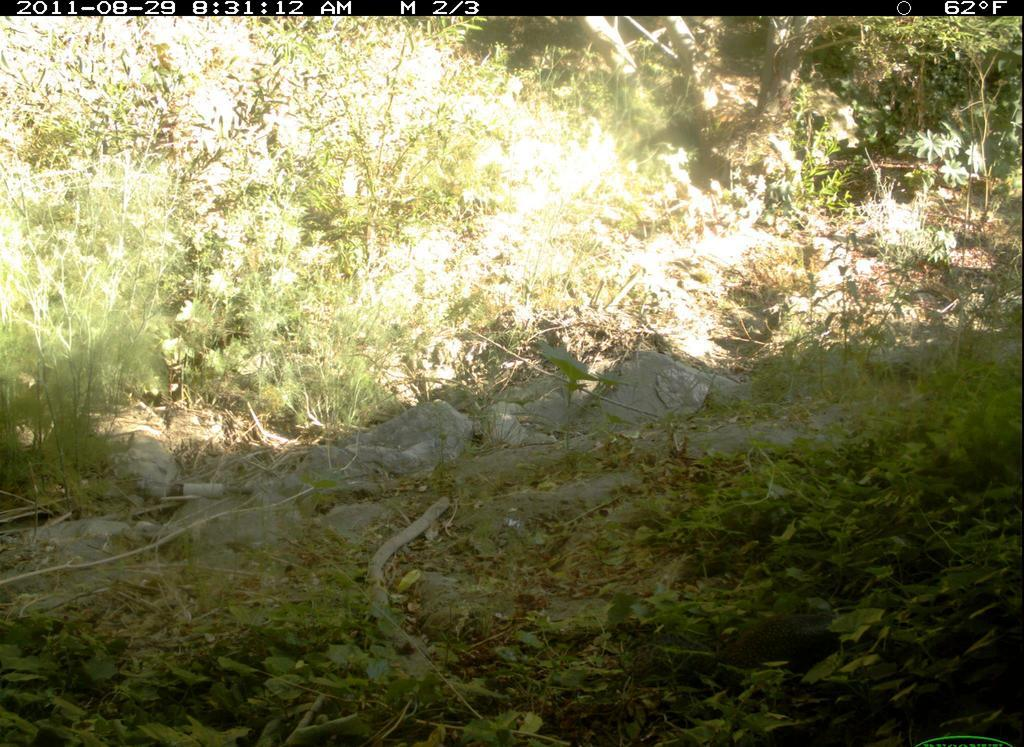squirrel: (707, 597, 841, 683)
